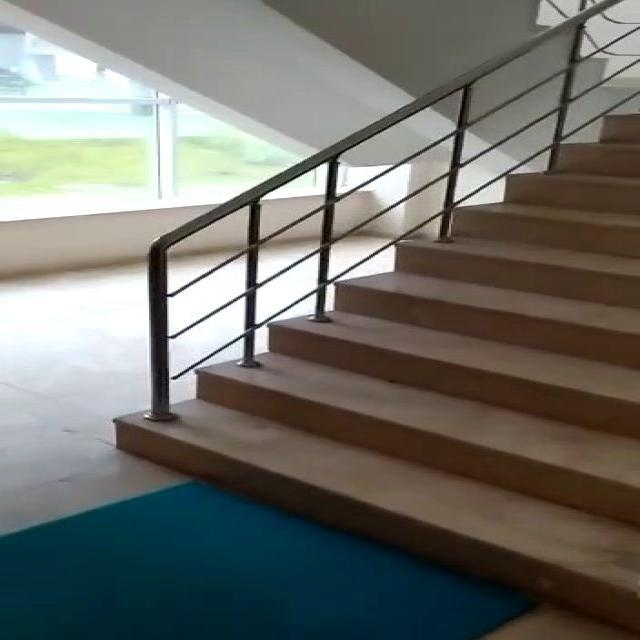stair: (70, 92, 640, 637)
